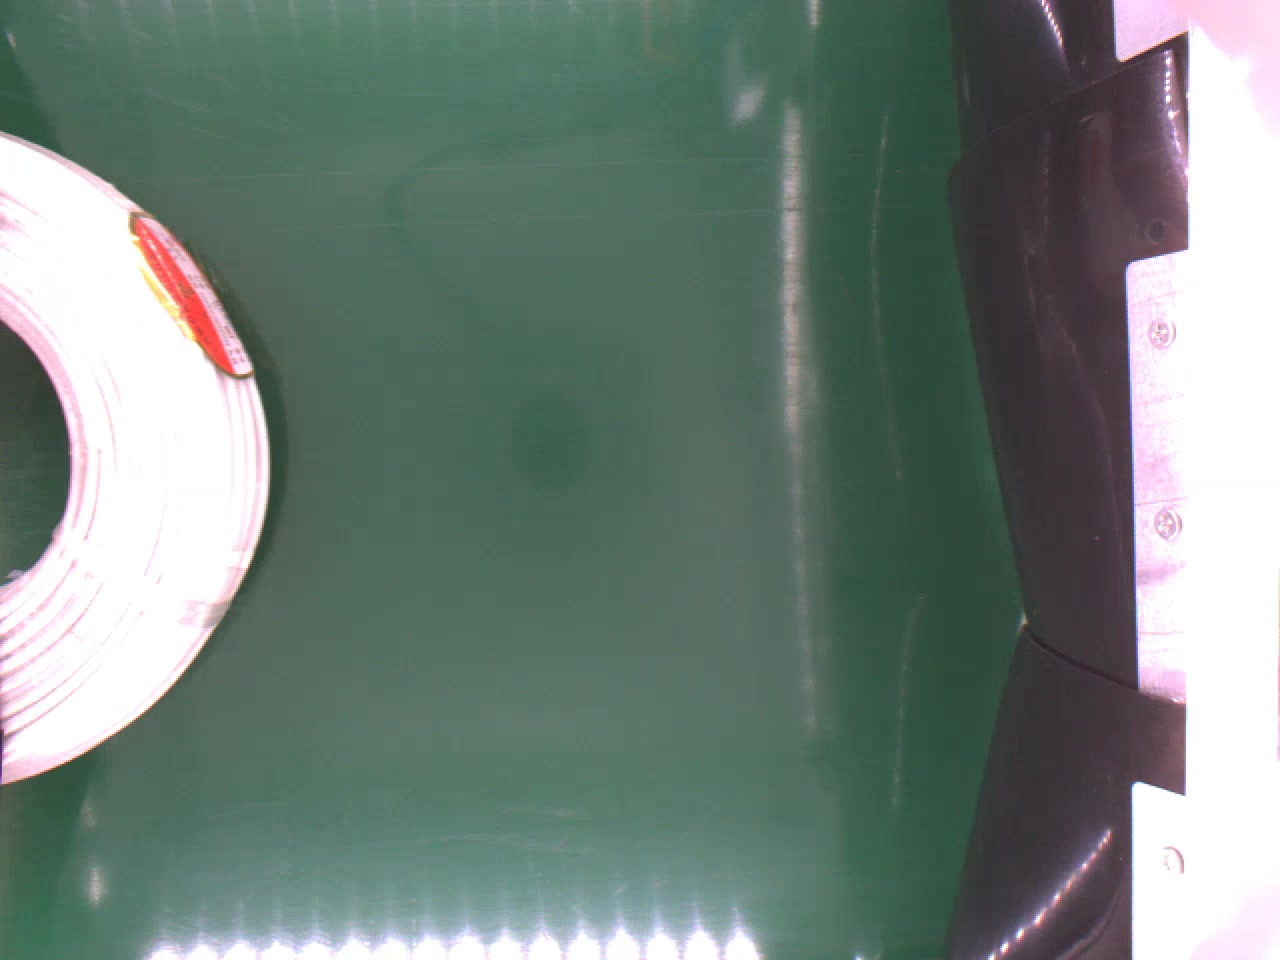white: (0, 128, 276, 792)
